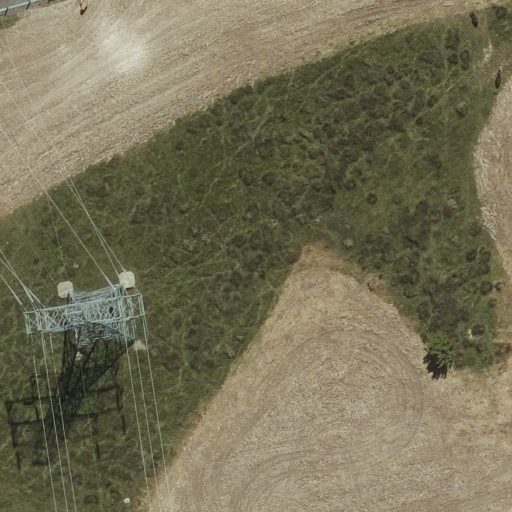TT: (17, 279, 149, 361)
